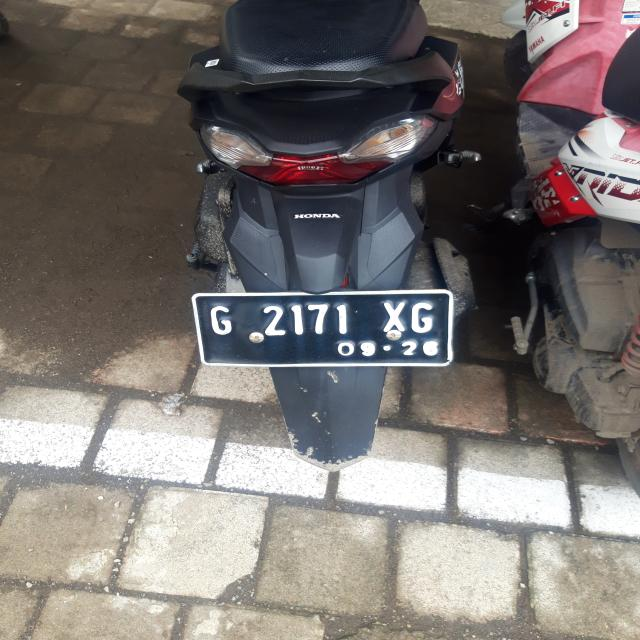plate: (193, 292, 456, 368)
